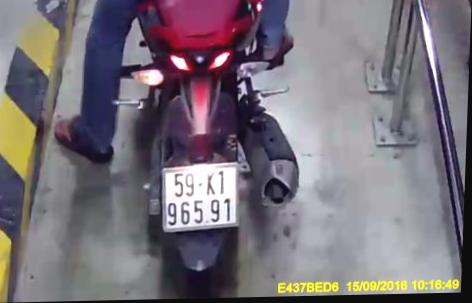License_Plate: (149, 159, 243, 238)
